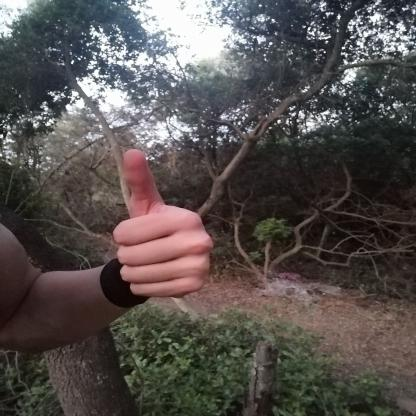ALIF: (88, 137, 225, 305)
